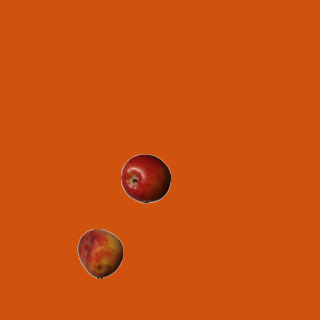Apple Braeburn: (120, 153, 170, 203)
Peach: (75, 228, 125, 278)
